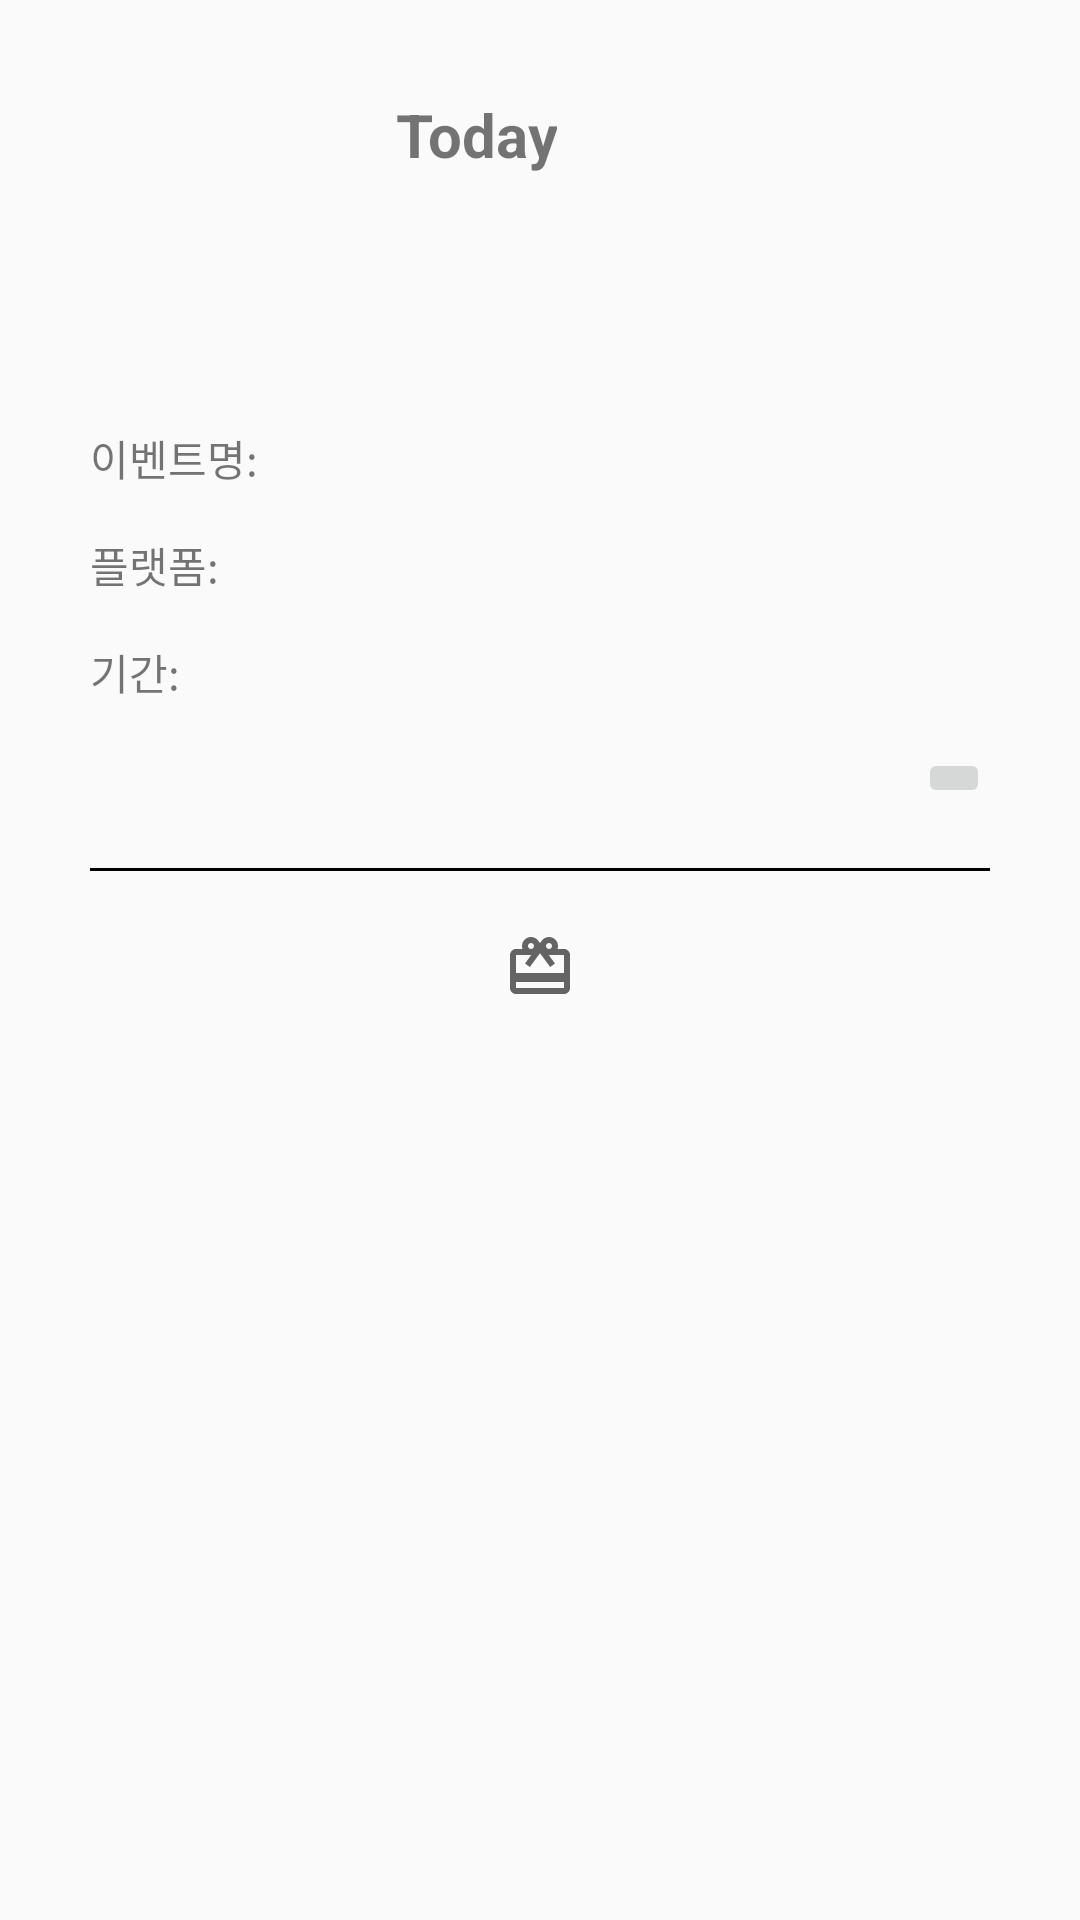

Locate icon controls on the screen. Image size 1080x1920, boxes as box=[x1, y1, x2, y2].
event: box=[510, 937, 570, 994]
